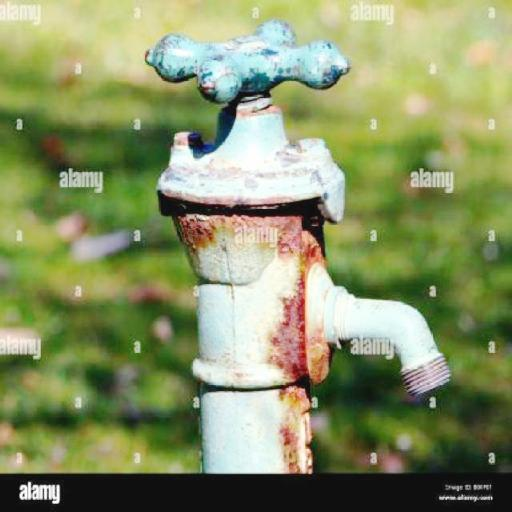corrosion: (160, 178, 373, 446)
